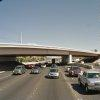Bridge: (2, 30, 98, 66)
